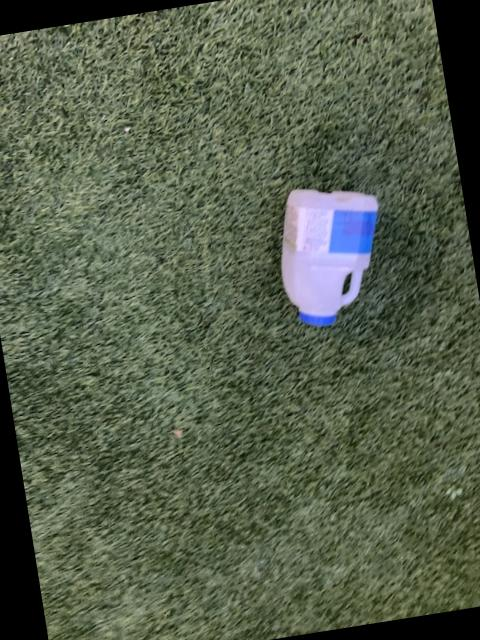plastic: (280, 190, 375, 326)
